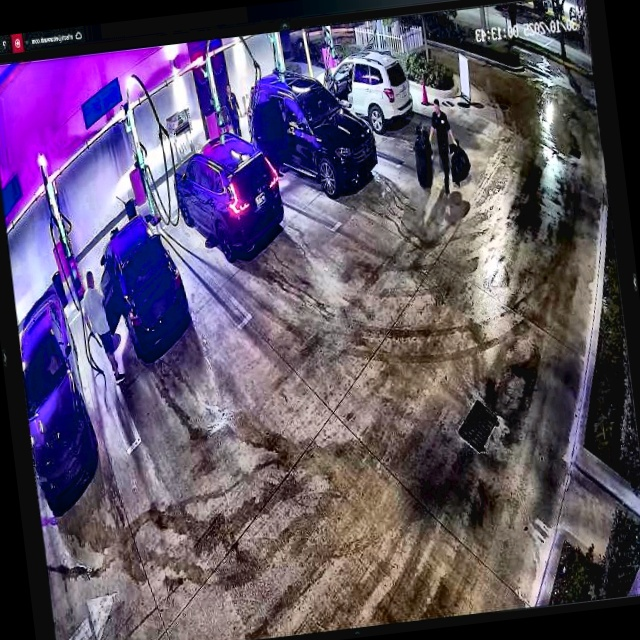Car: (86, 205, 206, 373), (240, 61, 379, 205), (170, 130, 289, 263)
